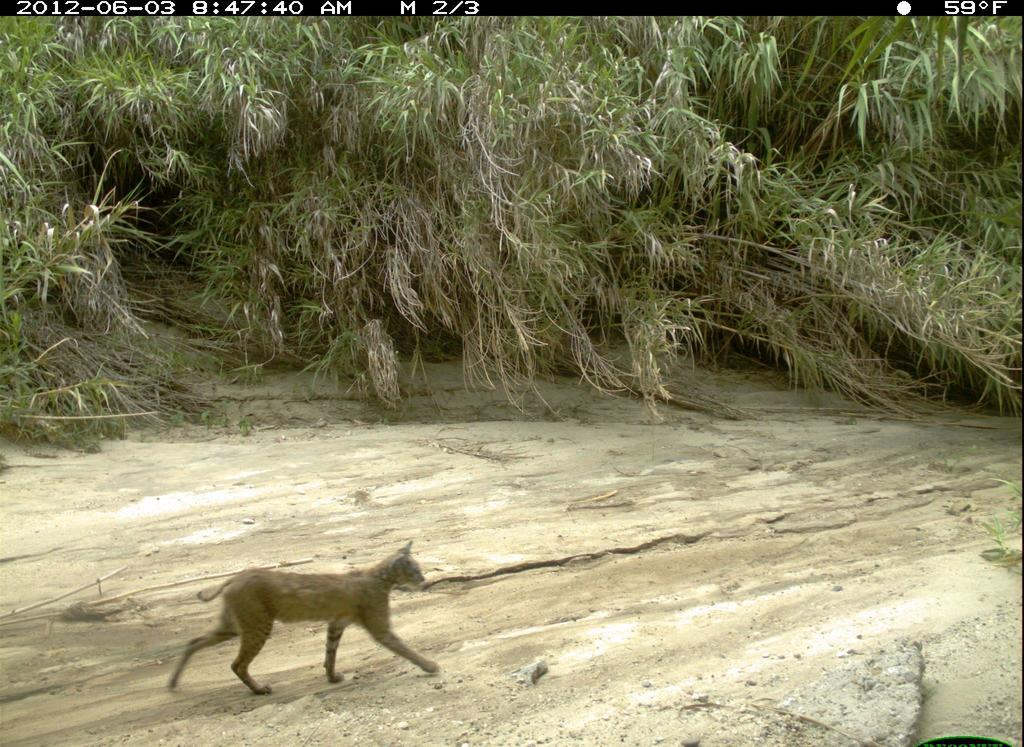bobcat: (159, 537, 448, 700)
